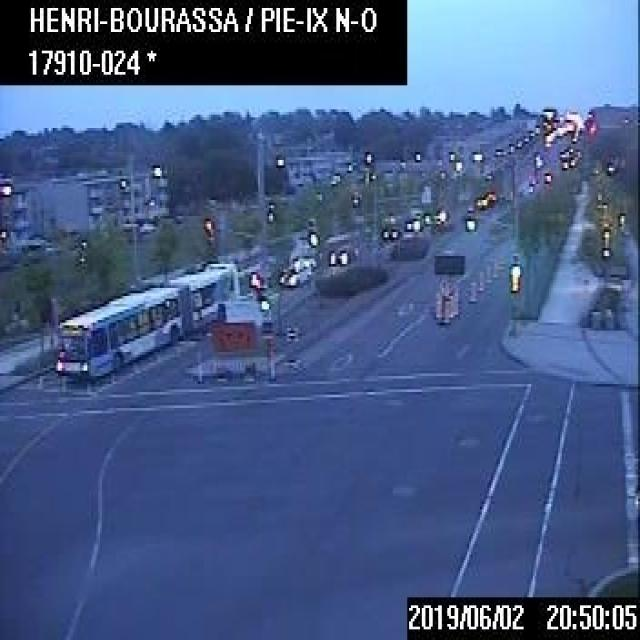bus: (55, 261, 240, 379)
construction: (211, 301, 269, 384), (431, 253, 464, 320), (434, 290, 441, 316), (451, 289, 458, 314), (468, 279, 476, 300), (476, 268, 483, 290), (443, 298, 449, 322), (448, 293, 453, 315), (484, 264, 490, 281), (498, 252, 503, 270), (491, 261, 497, 276)
vehicle: (278, 259, 309, 285), (327, 243, 353, 264), (381, 222, 402, 239), (405, 211, 421, 232)
